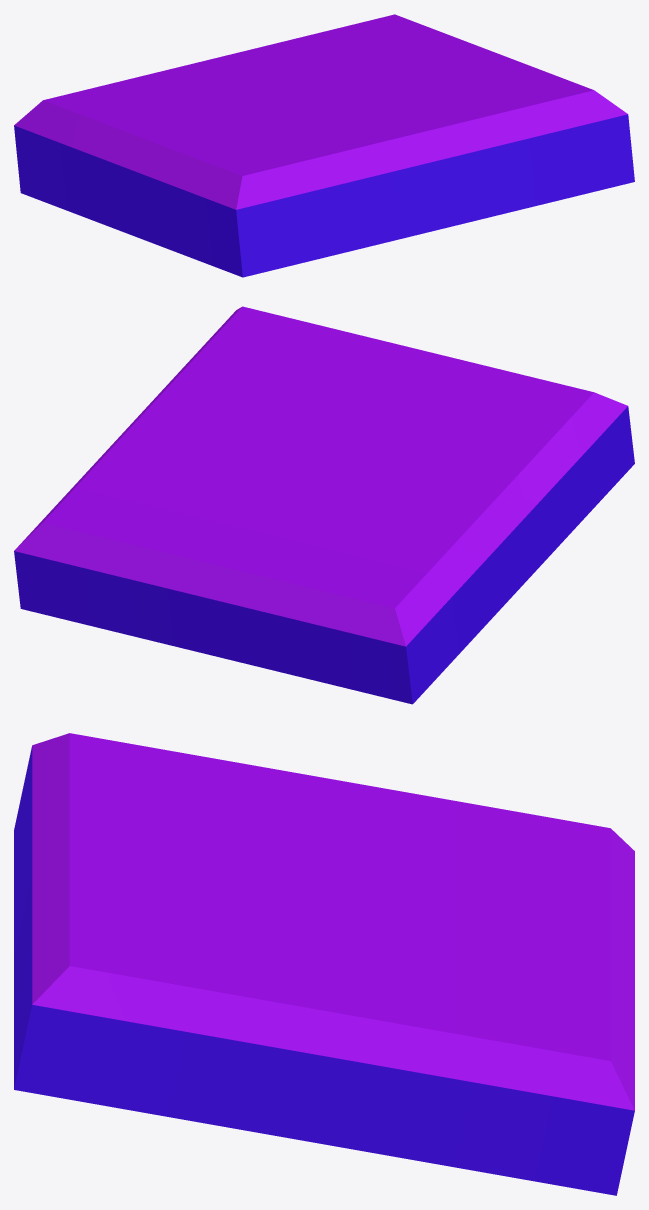
The model's file is ButtonB.glb.
3 renders of one model, top to bottom at view 1: azimuth 30°, elevation 25°; view 2: azimuth 150°, elevation 25°; view 3: azimuth 270°, elevation 25°, orthographic. The views are drawn at different scales.
Visible parts, largest first — view 1: ButtonB; view 2: ButtonB; view 3: ButtonB.
Boxes of the visible parts, x1,y1,x2,y2 form: ButtonB: [14, 14, 634, 277]; ButtonB: [14, 306, 634, 704]; ButtonB: [14, 733, 634, 1195].
Size of the model in its own units: 0.5336 by 0.2077 by 0.5397.
Materials: 1 (1 with a texture image).
